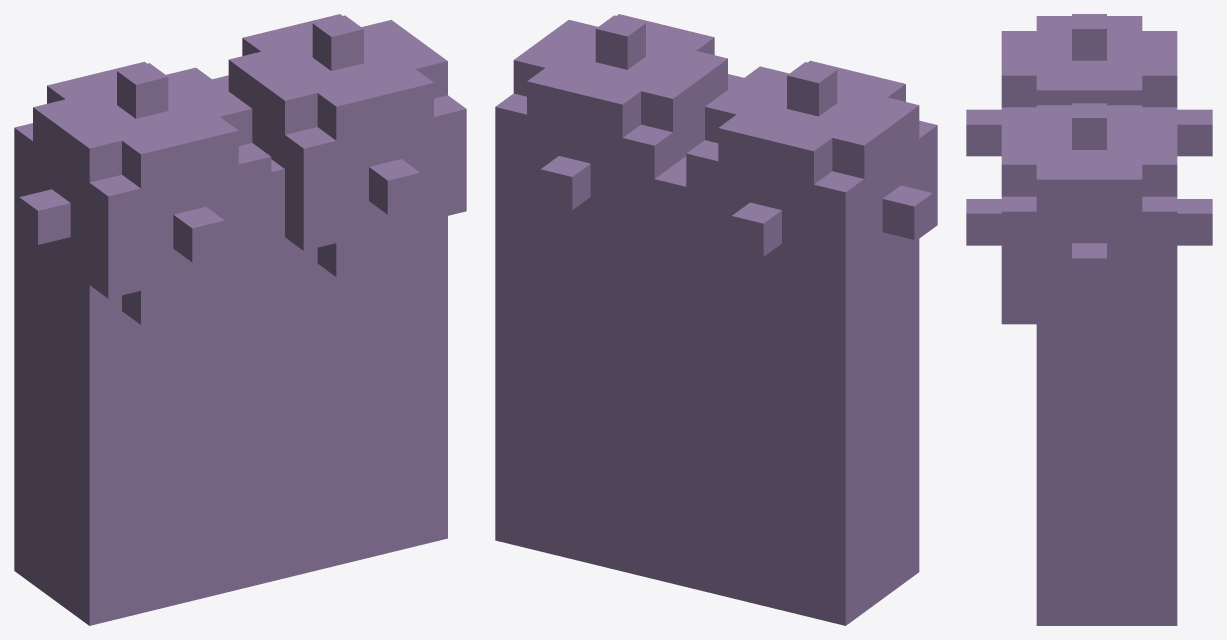
File: crypto-14.glb
3 renders of one model, left to right at view 1: azimuth 30°, elevation 25°; view 2: azimuth 150°, elevation 25°; view 3: azimuth 270°, elevation 25°, orthographic. The views are drawn at different scales.
Parts seen in each view (by area): view 1: Audit shield; view 2: Audit shield; view 3: Audit shield.
Part boxes in pixels (bbox=[...]): Audit shield: bbox=[14, 14, 466, 625]; Audit shield: bbox=[495, 14, 937, 625]; Audit shield: bbox=[966, 14, 1212, 625].
Size of the model in its own units: 1.04 by 1.2 by 0.56.
